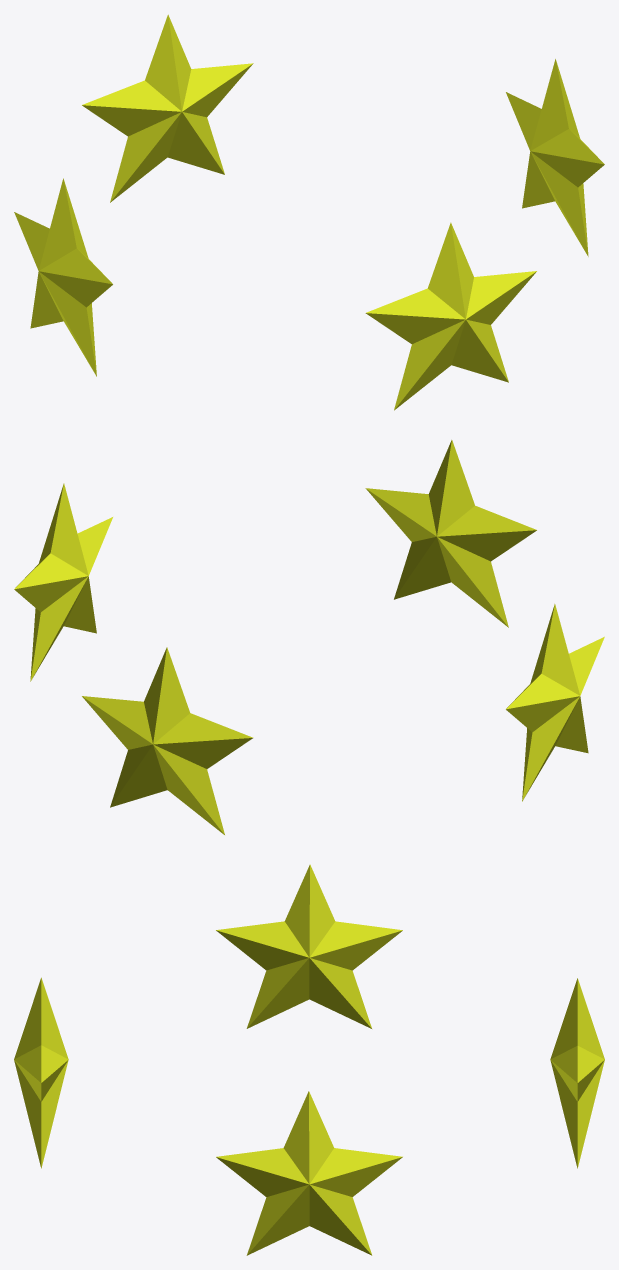
The model's file is Stars.fbx.
The picture shows the model from 3 angles, top to bottom: view 1: azimuth 30°, elevation 25°; view 2: azimuth 150°, elevation 25°; view 3: azimuth 270°, elevation 25°; orthographic projection. The views are drawn at different scales.
Parts seen in each view (by area): view 1: Cone; view 2: Cone; view 3: Cone.
Boxes of the visible parts, x1,y1,x2,y2 form: Cone: (14, 14, 604, 410); Cone: (14, 440, 604, 834); Cone: (14, 864, 604, 1255).
Size of the model in its own units: 0.6612 by 0.2039 by 0.6612.
